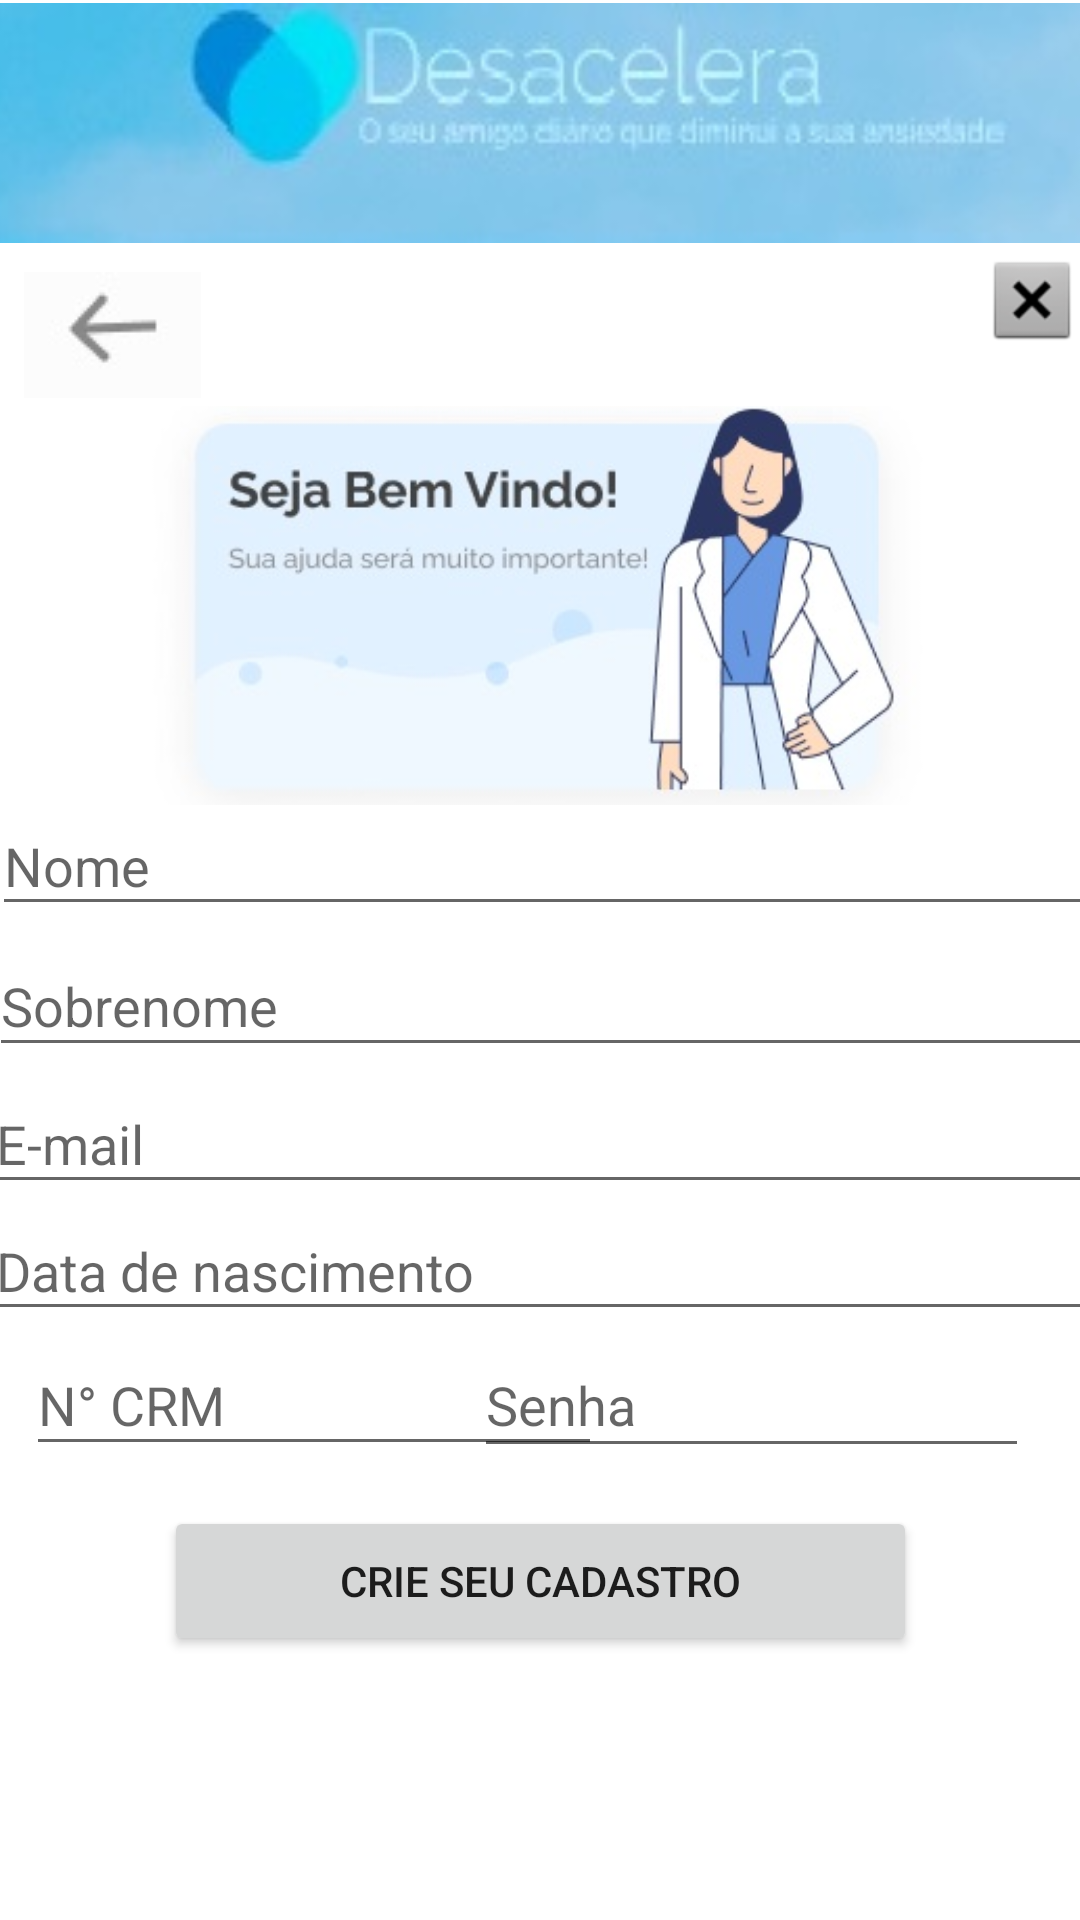

Icon bounding boxes for this 1080px×1920px phone screenshot, format (x1, y1, x2, y2):
fig voltar: (69, 294, 157, 363)
